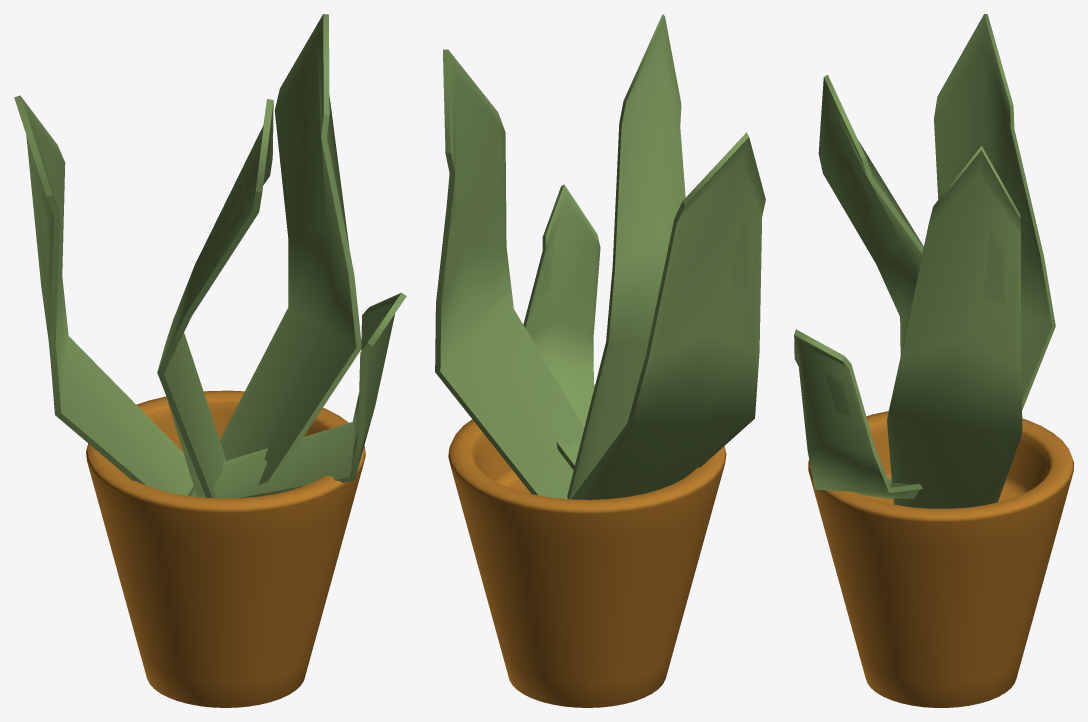
The model's file is plant.fbx.
3 renders of one model, left to right at view 1: azimuth 30°, elevation 25°; view 2: azimuth 150°, elevation 25°; view 3: azimuth 270°, elevation 25°, orthographic. The views are drawn at different scales.
Parts seen in each view (by area): view 1: plant3; view 2: plant3; view 3: plant3.
Part boxes in pixels (left/top/right/bottom): plant3: left=14, top=14, right=406, bottom=707; plant3: left=435, top=14, right=765, bottom=707; plant3: left=794, top=14, right=1073, bottom=707.
Bounding box in the file's own units: 12.25 × 23.54 × 10.02.
